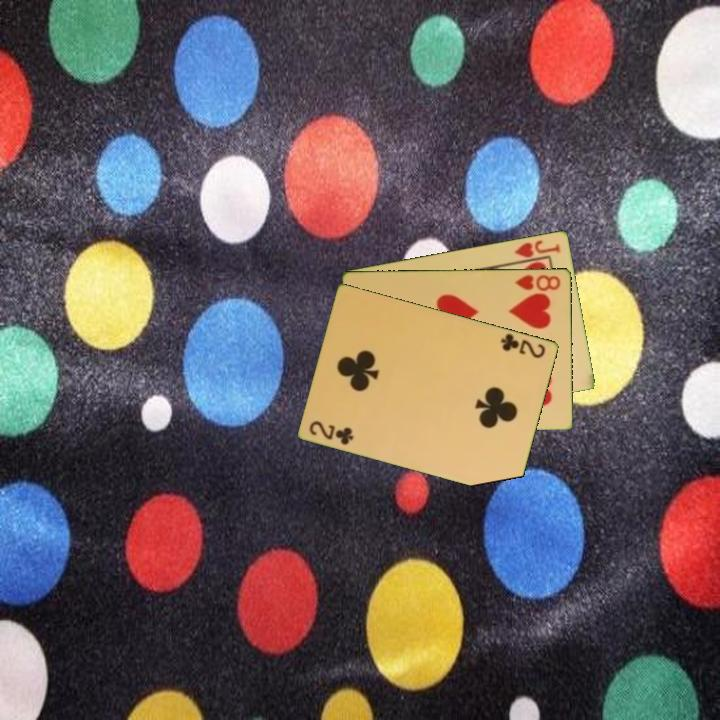2c: (497, 330, 549, 361), (306, 417, 357, 448)
8h: (512, 271, 563, 294)
Jh: (511, 236, 563, 260)
